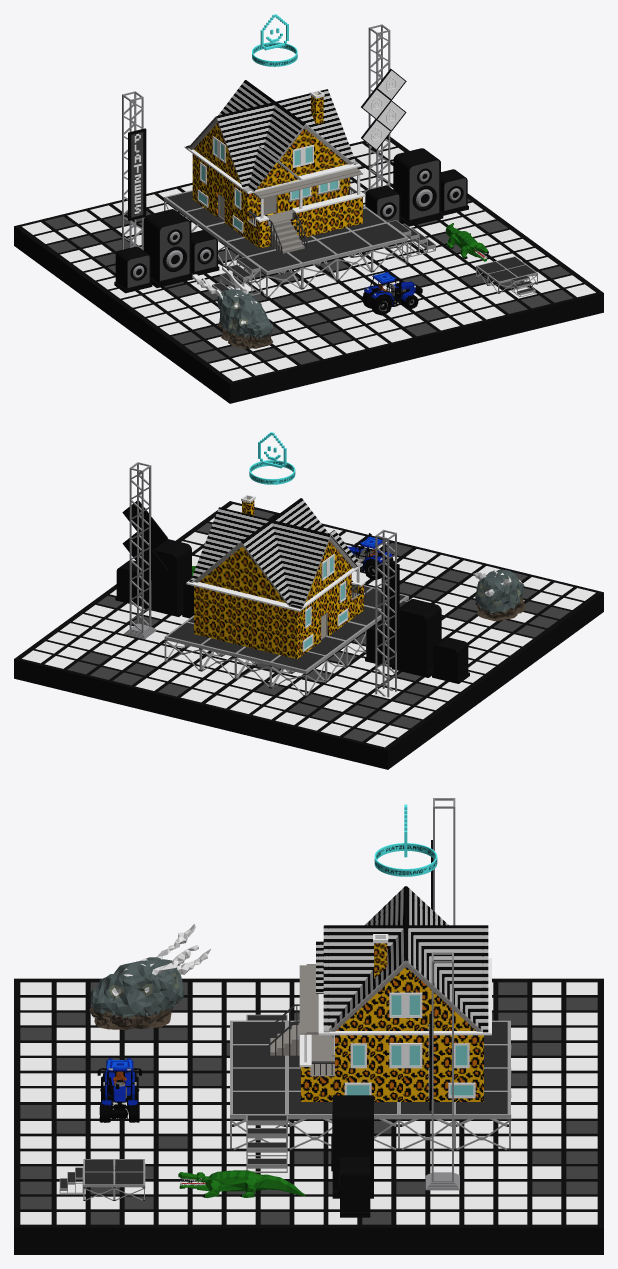
3 renders of one model, top to bottom at view 1: azimuth 30°, elevation 25°; view 2: azimuth 150°, elevation 25°; view 3: azimuth 270°, elevation 25°, orthographic. The views are drawn at different scales.
Visible parts, largest first — view 1: Cube.008, Cube.637, OBJRANDOM_METEORITE, VEHICLES_TRACTOR, TYPE_PREMIUM, ANIMAL_COCODRILO; view 2: Cube.008, Cube.637, OBJRANDOM_METEORITE, TYPE_PREMIUM, VEHICLES_TRACTOR; view 3: Cube.008, Cube.637, OBJRANDOM_METEORITE, VEHICLES_TRACTOR, ANIMAL_COCODRILO, TYPE_PREMIUM.
Boxes of the visible parts, x1,y1,x2,y2 form: Cube.008: (14,24,603,403); Cube.637: (184,80,365,254); OBJRANDOM_METEORITE: (192,266,273,348); VEHICLES_TRACTOR: (362,268,422,315); TYPE_PREMIUM: (252,14,297,66); ANIMAL_COCODRILO: (445,223,488,261); Cube.008: (14,462,603,769); Cube.637: (186,494,366,658); OBJRANDOM_METEORITE: (473,569,525,621); TYPE_PREMIUM: (249,432,295,484); VEHICLES_TRACTOR: (348,533,393,579); Cube.008: (14,798,603,1254); Cube.637: (268,886,491,1101); OBJRANDOM_METEORITE: (89,924,210,1029); VEHICLES_TRACTOR: (97,1058,141,1122); ANIMAL_COCODRILO: (178,1170,305,1197); TYPE_PREMIUM: (374,804,437,876).
Bounding box in the file's own units: 4000 × 2534 × 4000.
Materials: 39 (4 with a texture image).
